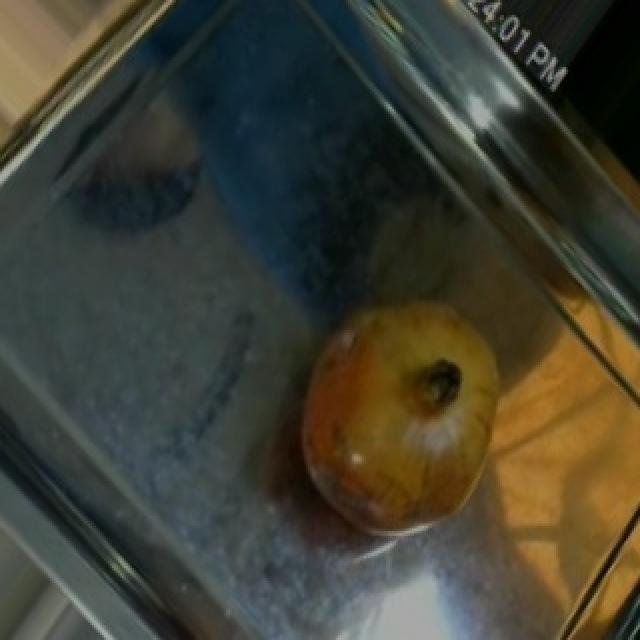fruit: (264, 263, 534, 563)
